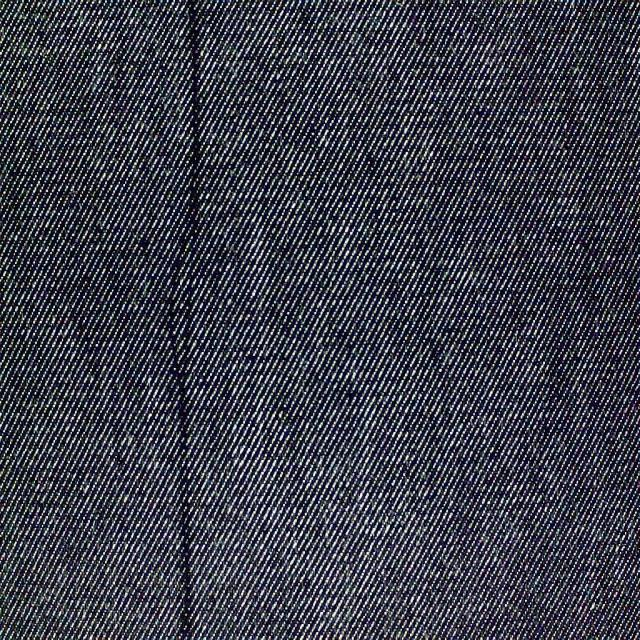defect: (155, 6, 211, 640)
